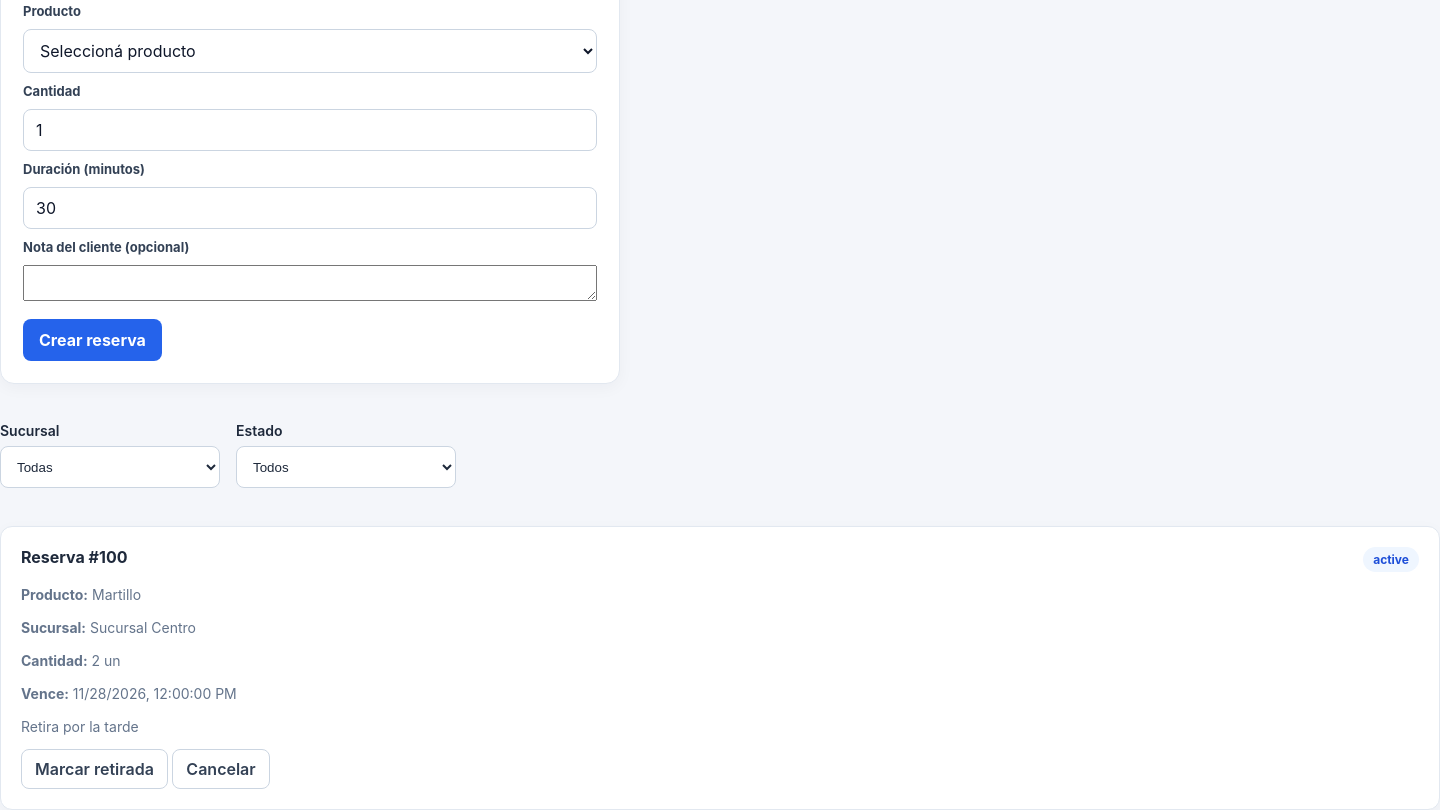
Scenario: Integración de Reservations › cancela una reserva activa
The image size is (1440, 810).
(page scrolled)
Check: the heading "Reserva #100" is shown, box x1=21 y1=547 x2=128 y2=567
Click the button "Cancelar": (221, 769) x1=172 y1=749 x2=270 y2=789
(page scrolled)
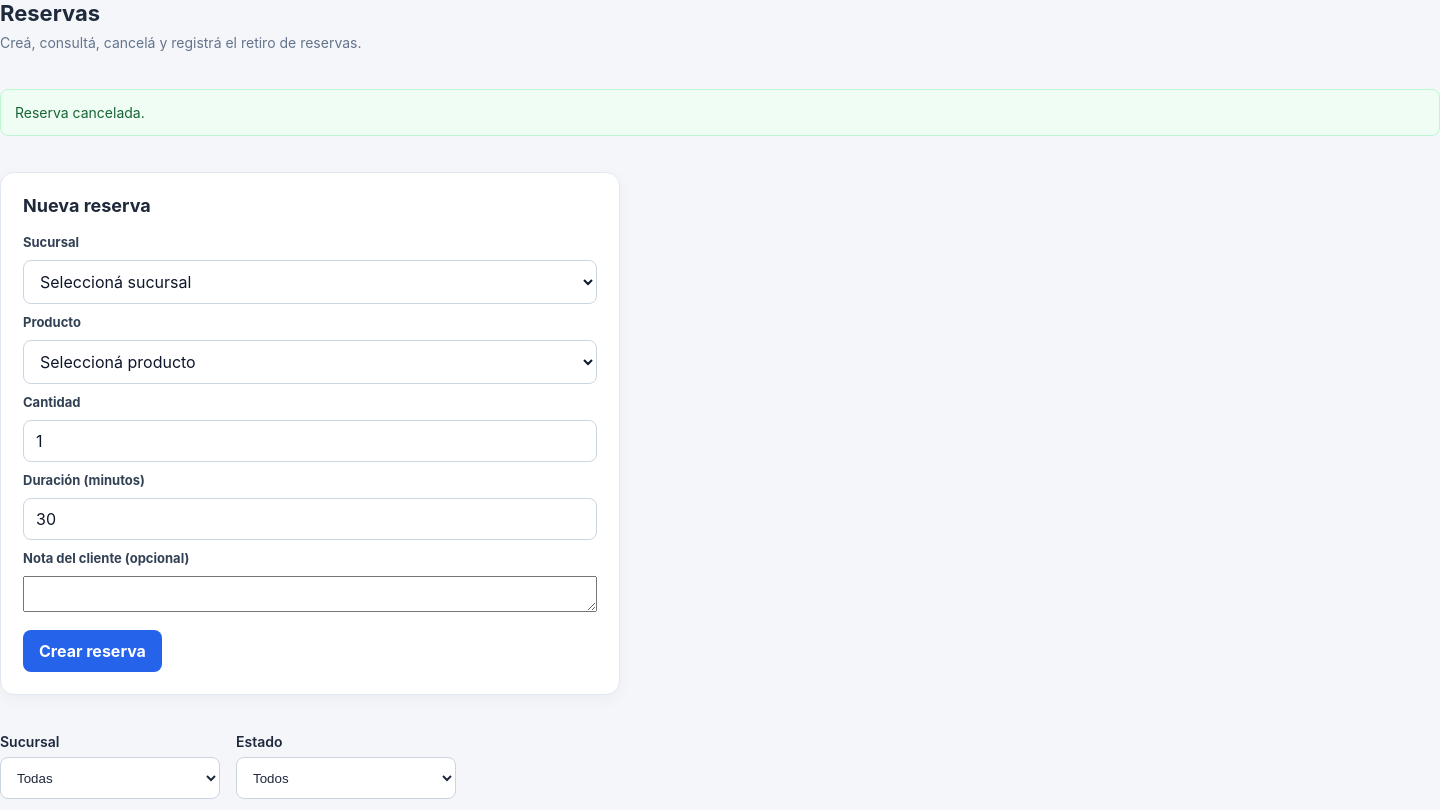
Check: the text "Reserva cancelada." is shown, box x1=0 y1=89 x2=1439 y2=136
